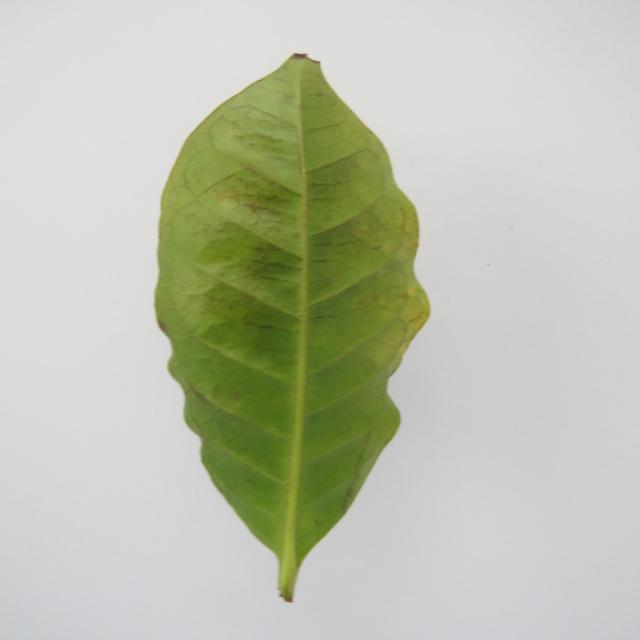DeficienciaNutricional-Calcio: (155, 54, 428, 601)
